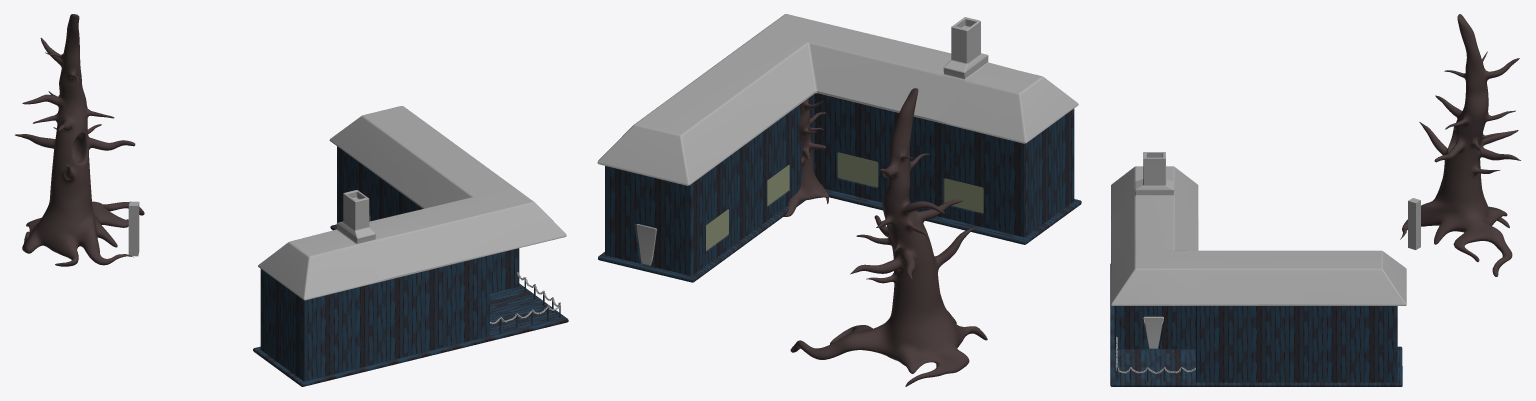
3 views of the same model, side by side, from view 1: azimuth 30°, elevation 25°; view 2: azimuth 150°, elevation 25°; view 3: azimuth 270°, elevation 25° (orthographic). The views are drawn at different scales.
Parts seen in each view (by area): view 1: ST_Roof, ST_Wall, ST_TreeBig, ST_WallFloor, ST_STATUE; view 2: ST_Roof, ST_Wall, ST_WallFloor, ST_TreeBig, ST_Window2, ST_TreeSmall, ST_Window, ST_Door; view 3: ST_Roof, ST_WallFloor, ST_TreeBig, ST_Wall, ST_STATUE, ST_Door1.
Boxes of the visible parts, box(x1,y1,x2,y2) form: ST_Roof: box(258, 106, 566, 300); ST_Wall: box(260, 255, 489, 381); ST_TreeBig: box(15, 14, 144, 266); ST_WallFloor: box(253, 146, 568, 386); ST_STATUE: box(128, 201, 139, 256); ST_Roof: box(597, 14, 1078, 185); ST_Wall: box(814, 93, 1074, 237); ST_WallFloor: box(598, 94, 1081, 282); ST_TreeBig: box(790, 88, 987, 386); ST_Window2: box(837, 152, 983, 212); ST_TreeSmall: box(783, 99, 828, 216); ST_Window: box(706, 164, 789, 250); ST_Door: box(636, 224, 656, 265); ST_Roof: box(1111, 152, 1406, 305); ST_WallFloor: box(1110, 263, 1402, 386); ST_TreeBig: box(1400, 14, 1520, 276); ST_Wall: box(1114, 306, 1195, 349); ST_STATUE: box(1408, 198, 1420, 249); ST_Door1: box(1144, 317, 1163, 348).
Bounding box in the file's own units: 2594 × 1758 × 2772.
